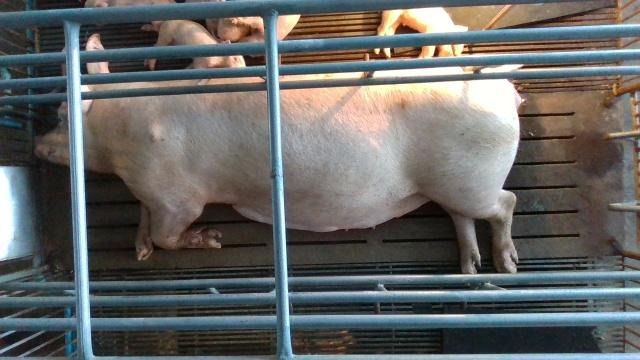piglet: (144, 20, 246, 68), (374, 7, 468, 58), (232, 15, 303, 57)
sow-sleep: (31, 31, 525, 272)
